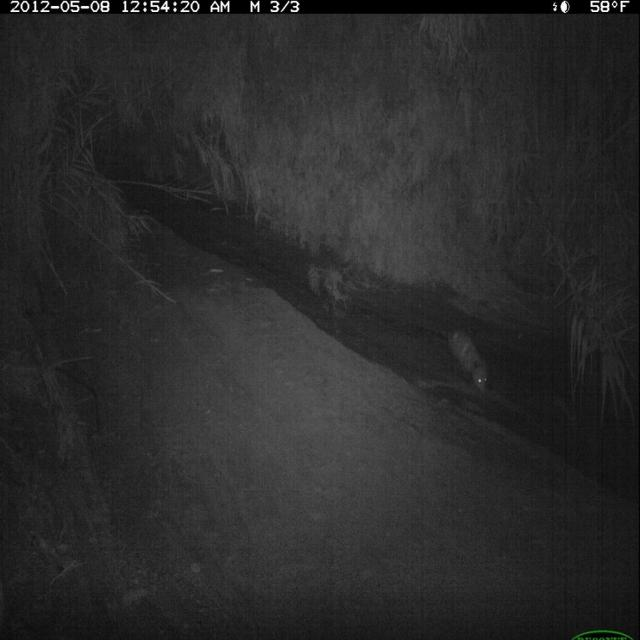opossum: (440, 323, 492, 402)
